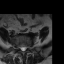CCS_normal: (22, 45, 24, 53)
LFS_normal: (26, 44, 28, 50)
LLS_normal: (24, 45, 26, 52)
RFS_normal: (18, 43, 20, 50)
RLS_normal: (20, 44, 22, 52)
